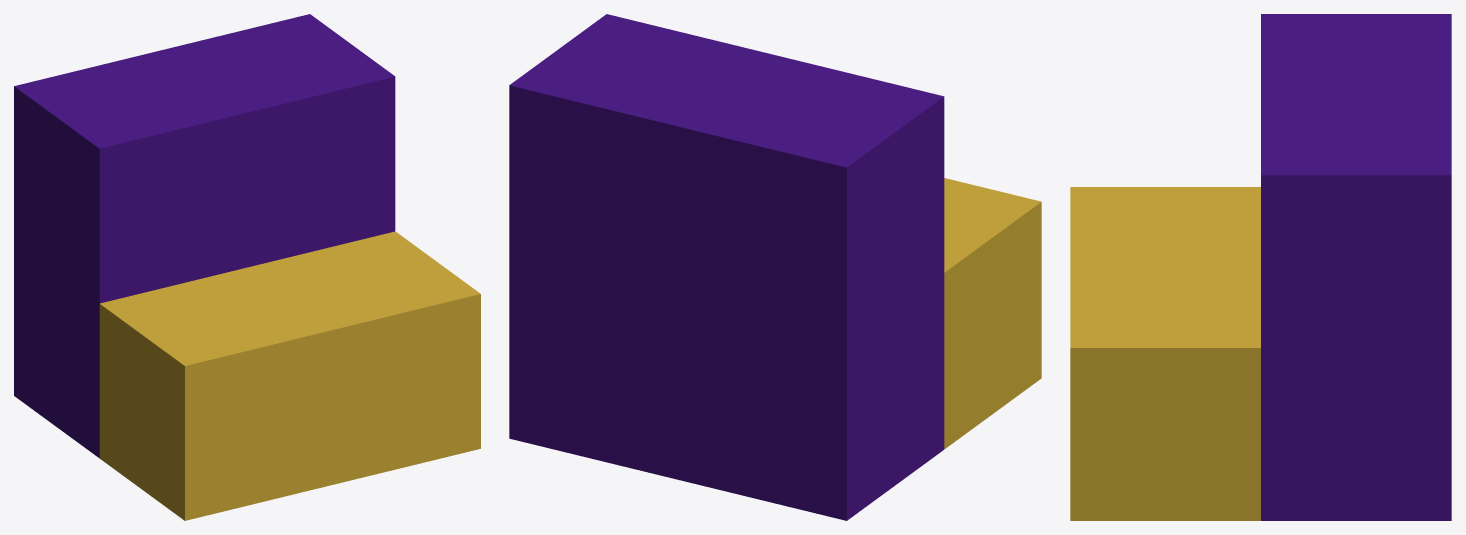
File: Axyl-2.obj
3 views of the same model, side by side, from view 1: azimuth 30°, elevation 25°; view 2: azimuth 150°, elevation 25°; view 3: azimuth 270°, elevation 25° (orthographic). The views are drawn at different scales.
Size of the model in its own units: 0.2 by 0.2 by 0.2.
1 material, 1 textured.
